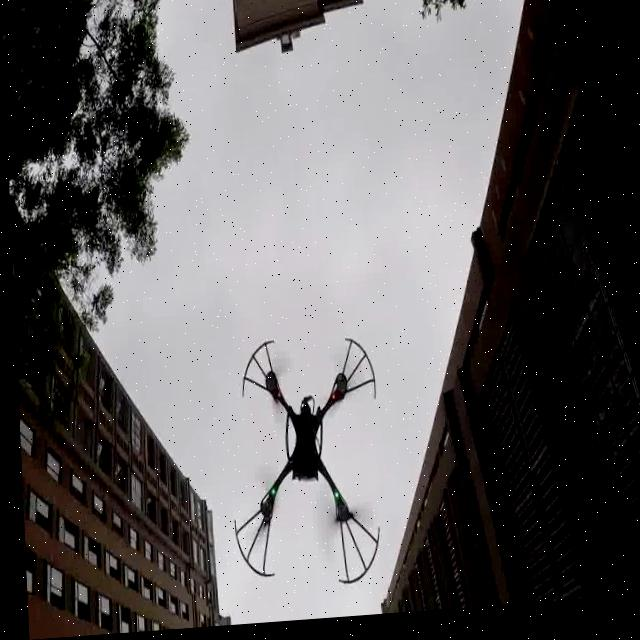drone: (223, 321, 390, 596)
